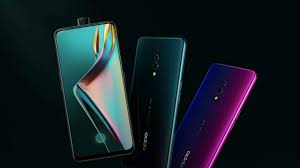oppo: (47, 19, 136, 163), (169, 58, 259, 166)
